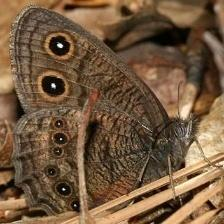butterfly: (2, 5, 202, 220)
